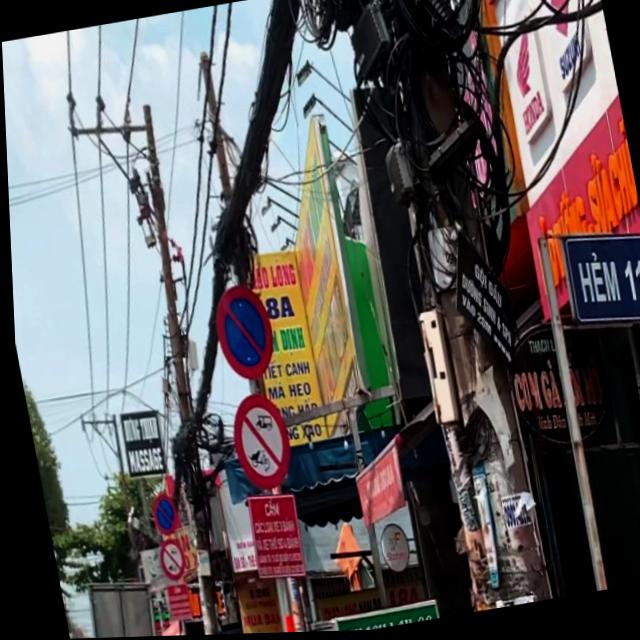Cam do xe: (207, 282, 278, 387), (146, 493, 175, 538)
